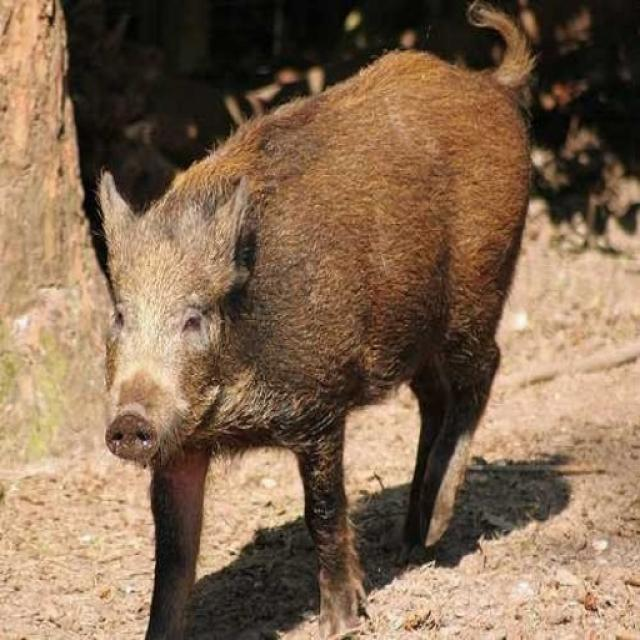pig: (111, 11, 513, 550)
